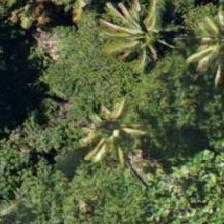coconut_tree: (69, 90, 159, 180), (92, 0, 182, 74), (170, 0, 223, 86)
